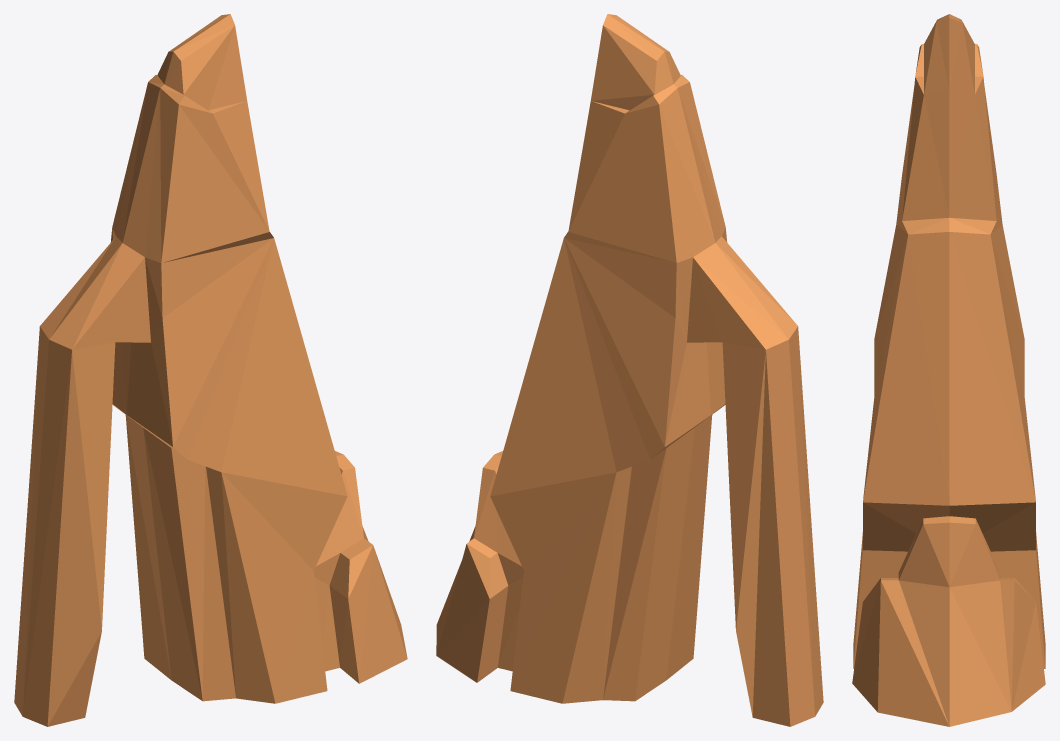
Rendered from Rock_Large_Canyon_Eroded_08.FBX.
3 views of the same model, side by side, from view 1: azimuth 30°, elevation 25°; view 2: azimuth 150°, elevation 25°; view 3: azimuth 270°, elevation 25° (orthographic). The views are drawn at different scales.
Parts seen in each view (by area): view 1: Rock_Large_Canyon_Eroded_08; view 2: Rock_Large_Canyon_Eroded_08; view 3: Rock_Large_Canyon_Eroded_08.
Boxes of the visible parts, x1,y1,x2,y2 form: Rock_Large_Canyon_Eroded_08: (14, 14, 407, 726); Rock_Large_Canyon_Eroded_08: (436, 14, 823, 726); Rock_Large_Canyon_Eroded_08: (852, 14, 1045, 726).
Size of the model in its own units: 8156 by 13428 by 3747.
